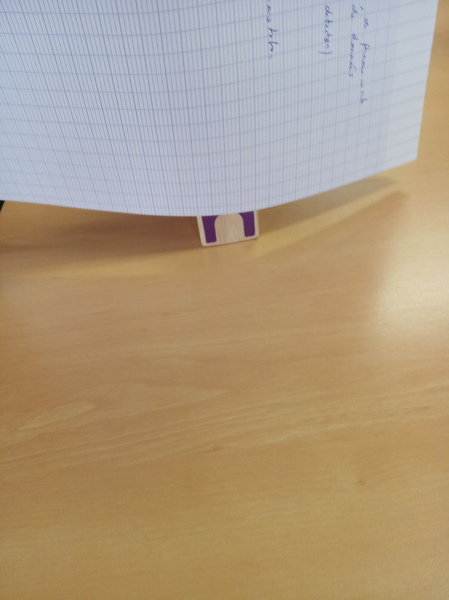violet: (190, 211, 261, 247)
